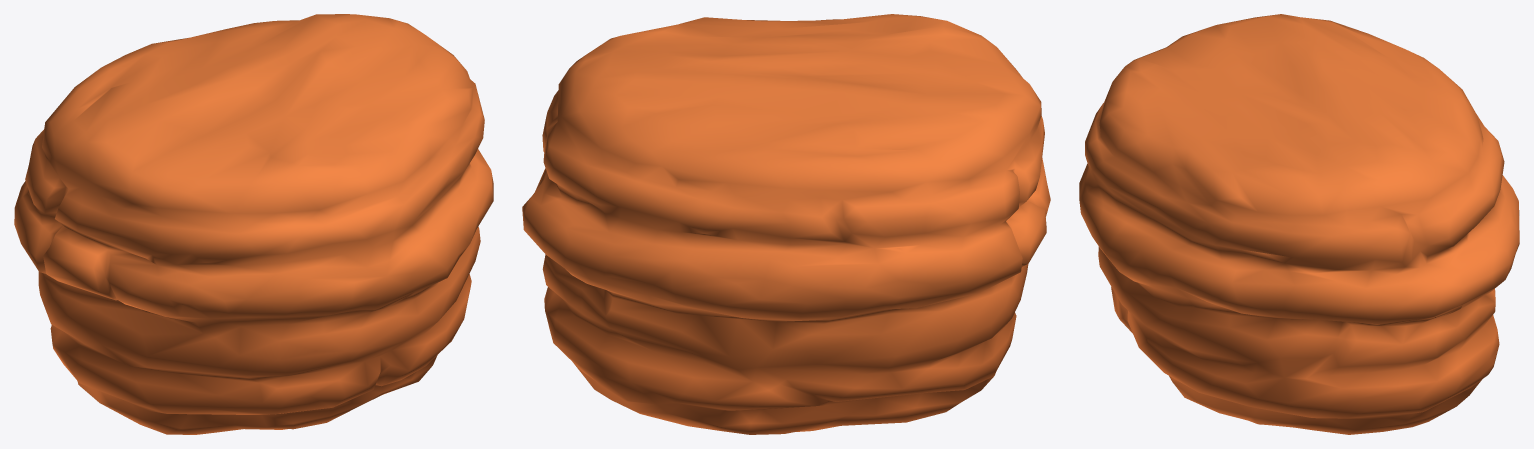
File: Rock4.fbx
3 renders of one model, left to right at view 1: azimuth 30°, elevation 25°; view 2: azimuth 150°, elevation 25°; view 3: azimuth 270°, elevation 25°, orthographic. The views are drawn at different scales.
Parts seen in each view (by area): view 1: Rock4; view 2: Rock4; view 3: Rock4.
Part boxes in pixels (left/top/right/bottom): Rock4: left=14, top=14, right=493, bottom=434; Rock4: left=522, top=14, right=1050, bottom=434; Rock4: left=1079, top=14, right=1519, bottom=434.
Size of the model in its own units: 615 by 412 by 572.
